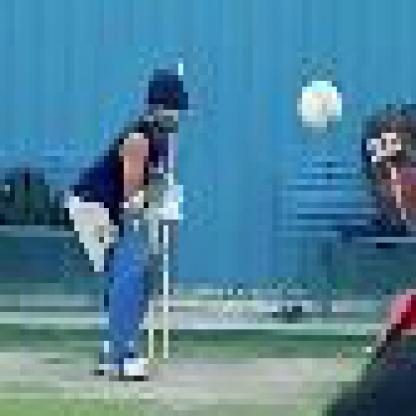ball: (289, 66, 348, 141)
